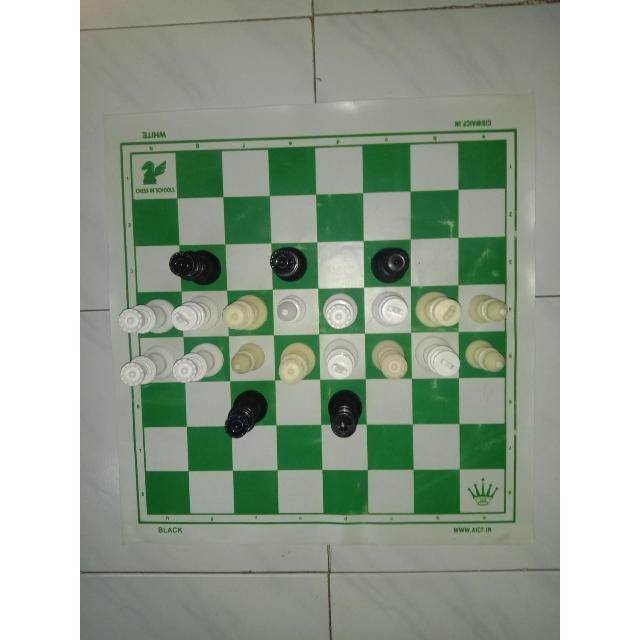black-king: (323, 388, 364, 439)
black-queen: (220, 388, 270, 439), (168, 245, 222, 289), (269, 244, 310, 285), (368, 245, 411, 283)
white-bishop: (465, 337, 510, 375), (228, 336, 267, 379), (466, 290, 510, 325), (273, 294, 309, 326)
white-king: (173, 295, 222, 339), (416, 288, 462, 330), (416, 335, 460, 377), (369, 286, 410, 327), (323, 336, 359, 382)
white-queen: (117, 294, 177, 344), (170, 339, 226, 391), (120, 344, 178, 390), (219, 293, 269, 334), (275, 341, 317, 383), (372, 340, 412, 380), (320, 291, 360, 330)
